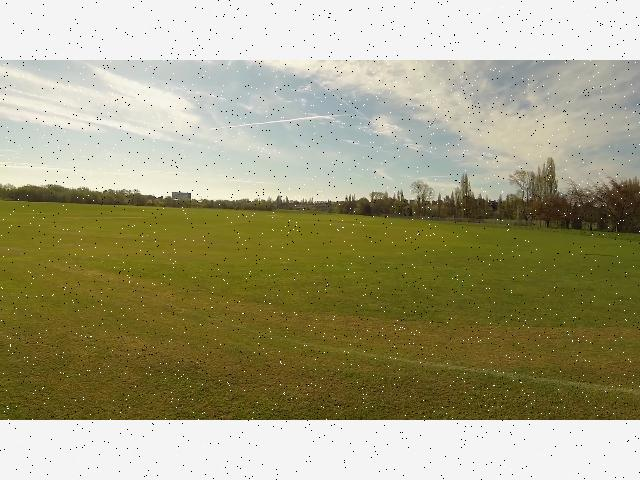Anti-Drone: (418, 109, 442, 139)
